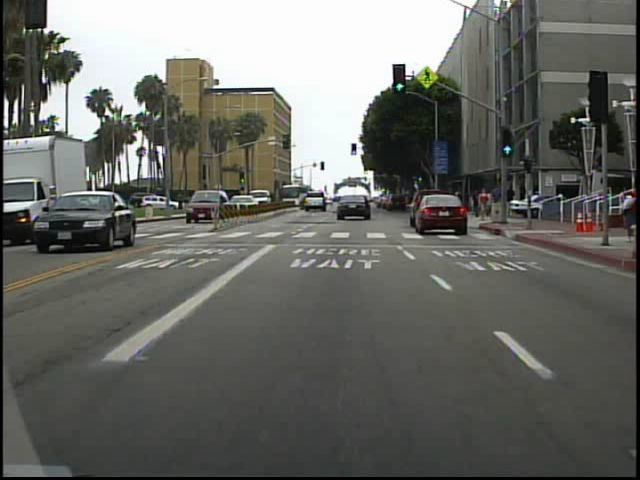person: (474, 186, 490, 224), (490, 183, 503, 220), (504, 183, 517, 217)
